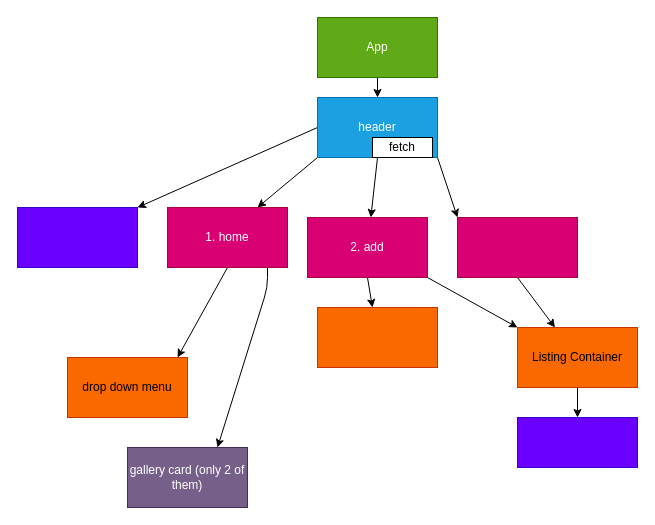
Image size: 655x525. Some labels were removed from this diagram. Here are the shapes that lost their labels. From the top down, the box of each, then its label:
(16, 206, 138, 268): button
(456, 216, 578, 278): 3. exhibitions
(316, 306, 438, 368): Form
(516, 416, 638, 468): ex cards
